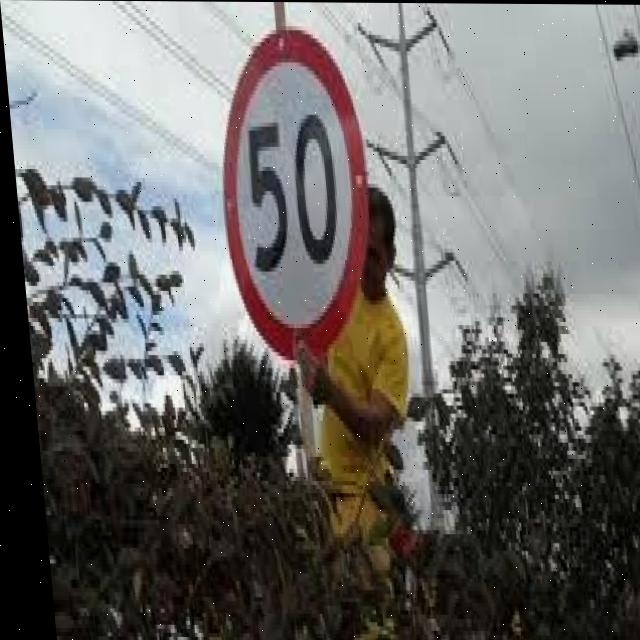Speed limit 50: (205, 22, 381, 369)
